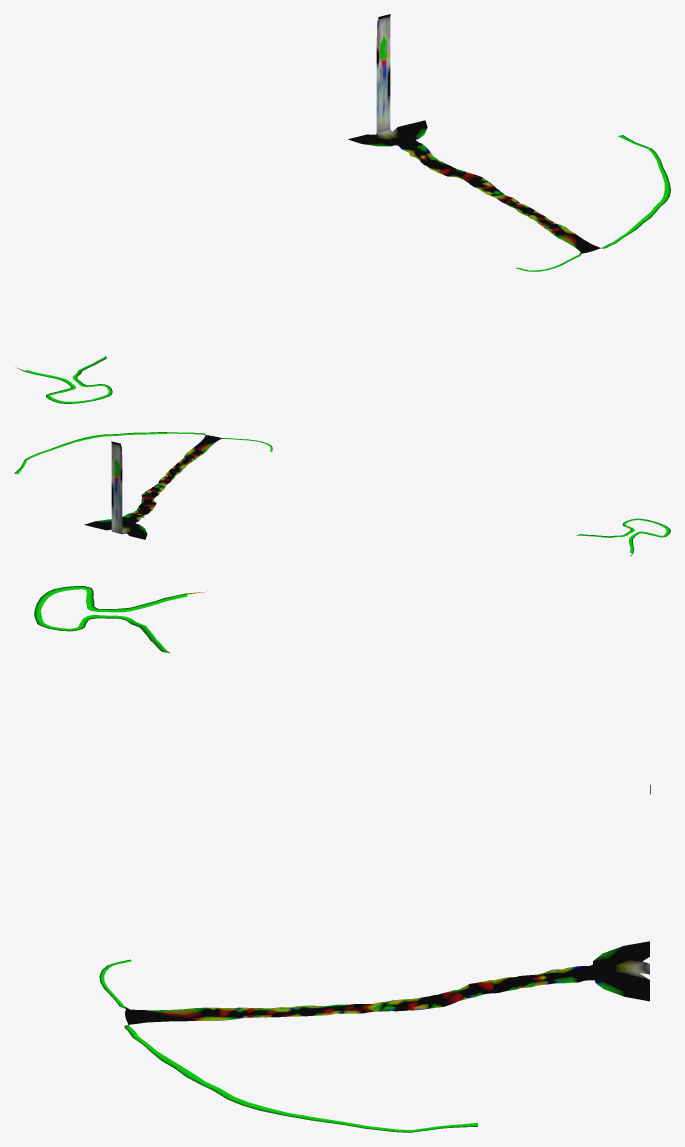
3 views of the same model, one above another, from view 1: azimuth 30°, elevation 25°; view 2: azimuth 150°, elevation 25°; view 3: azimuth 270°, elevation 25° (orthographic). The views are drawn at different scales.
Parts seen in each view (by area): view 1: G:\FFXIV-MapTools\exports\n4f2\bg\ex3\01_nvt_n4\fld\n4f2\bgp (×2); view 2: G:\FFXIV-MapTools\exports\n4f2\bg\ex3\01_nvt_n4\fld\n4f2\bgp (×2); view 3: G:\FFXIV-MapTools\exports\n4f2\bg\ex3\01_nvt_n4\fld\n4f2\bgp (×2).
Boxes of the visible parts, <box> form: G:\FFXIV-MapTools\exports\n4f2\bg\ex3\01_nvt_n4\fld\n4f2\bgp (×2): <box>15,14,670,403</box>; G:\FFXIV-MapTools\exports\n4f2\bg\ex3\01_nvt_n4\fld\n4f2\bgp (×2): <box>14,432,670,556</box>; G:\FFXIV-MapTools\exports\n4f2\bg\ex3\01_nvt_n4\fld\n4f2\bgp (×2): <box>34,586,650,1132</box>.
Size of what is drawn, in the model's own units: 1626 by 273 by 775.
